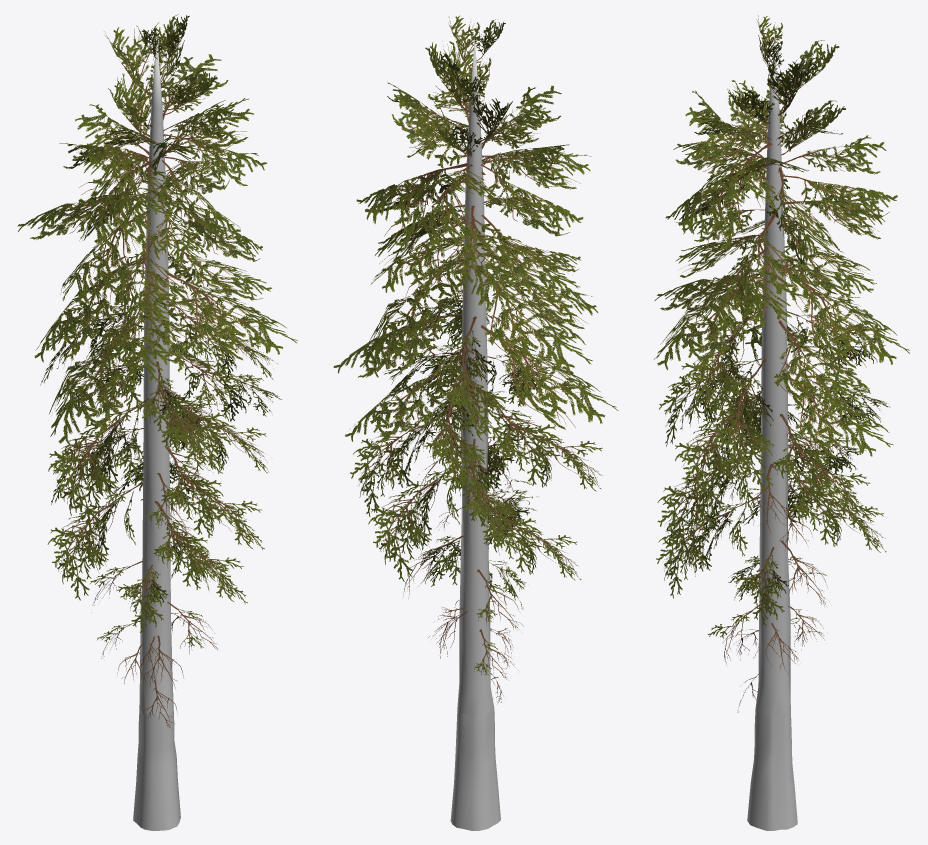
The model's file is redwood_01.obj.
3 views of the same model, side by side, from view 1: azimuth 30°, elevation 25°; view 2: azimuth 150°, elevation 25°; view 3: azimuth 270°, elevation 25° (orthographic).
Visible parts, largest first — view 1: Redwood_01; view 2: Redwood_01; view 3: Redwood_01.
Boxes of the visible parts, left/top/right/bottom form: Redwood_01: left=17, top=14, right=297, bottom=830; Redwood_01: left=333, top=15, right=618, bottom=830; Redwood_01: left=654, top=15, right=909, bottom=830.
Bounding box in the file's own units: 11.26 × 37.45 × 11.21.
